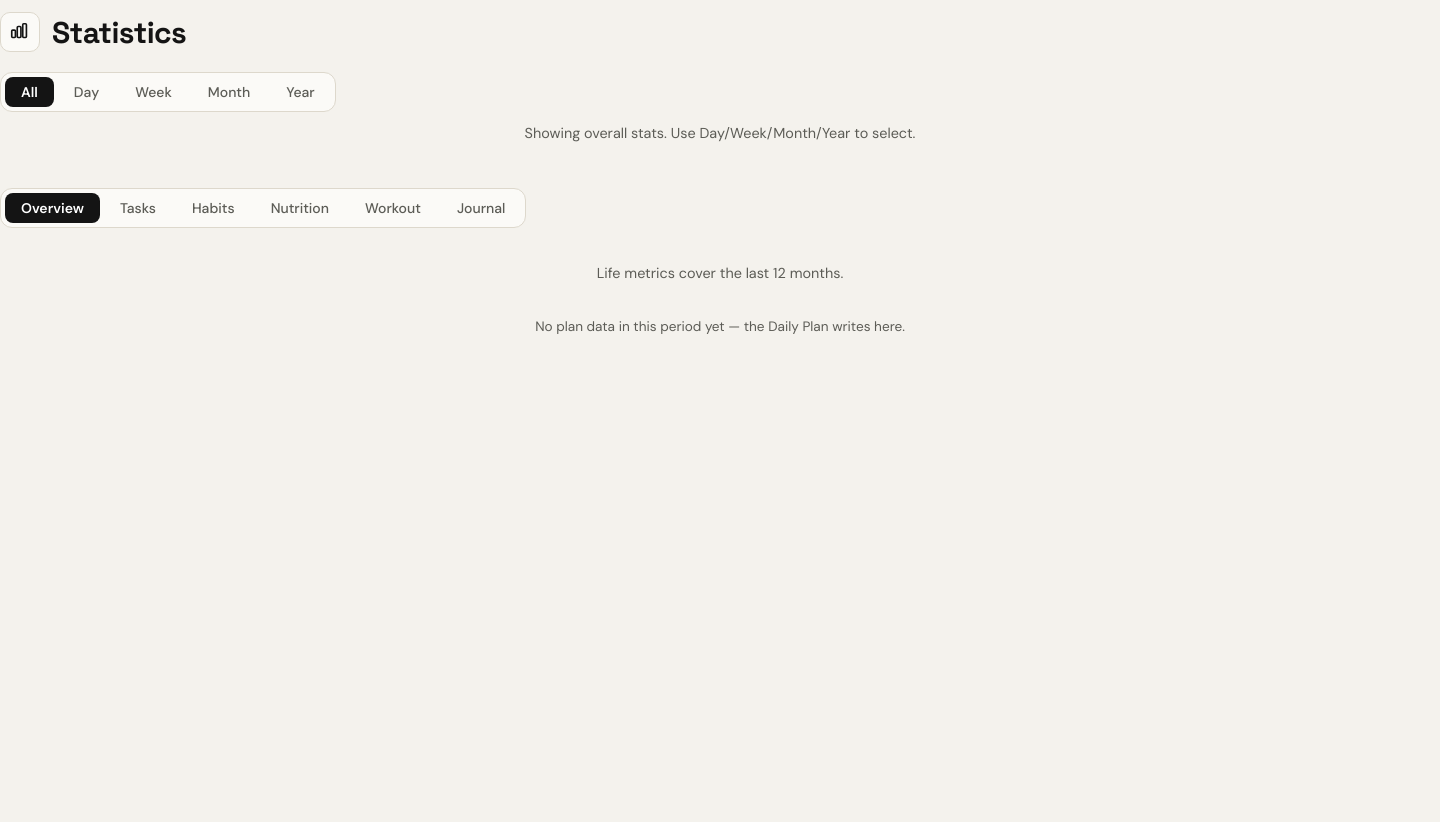
Scenario: StatisticsView (server mode) › renders the donut % and metric cards on the Tasks tab
Note: The task content lives in its own section now.
Click the tab "Tasks" at (138, 208), box [104,193,172,223]
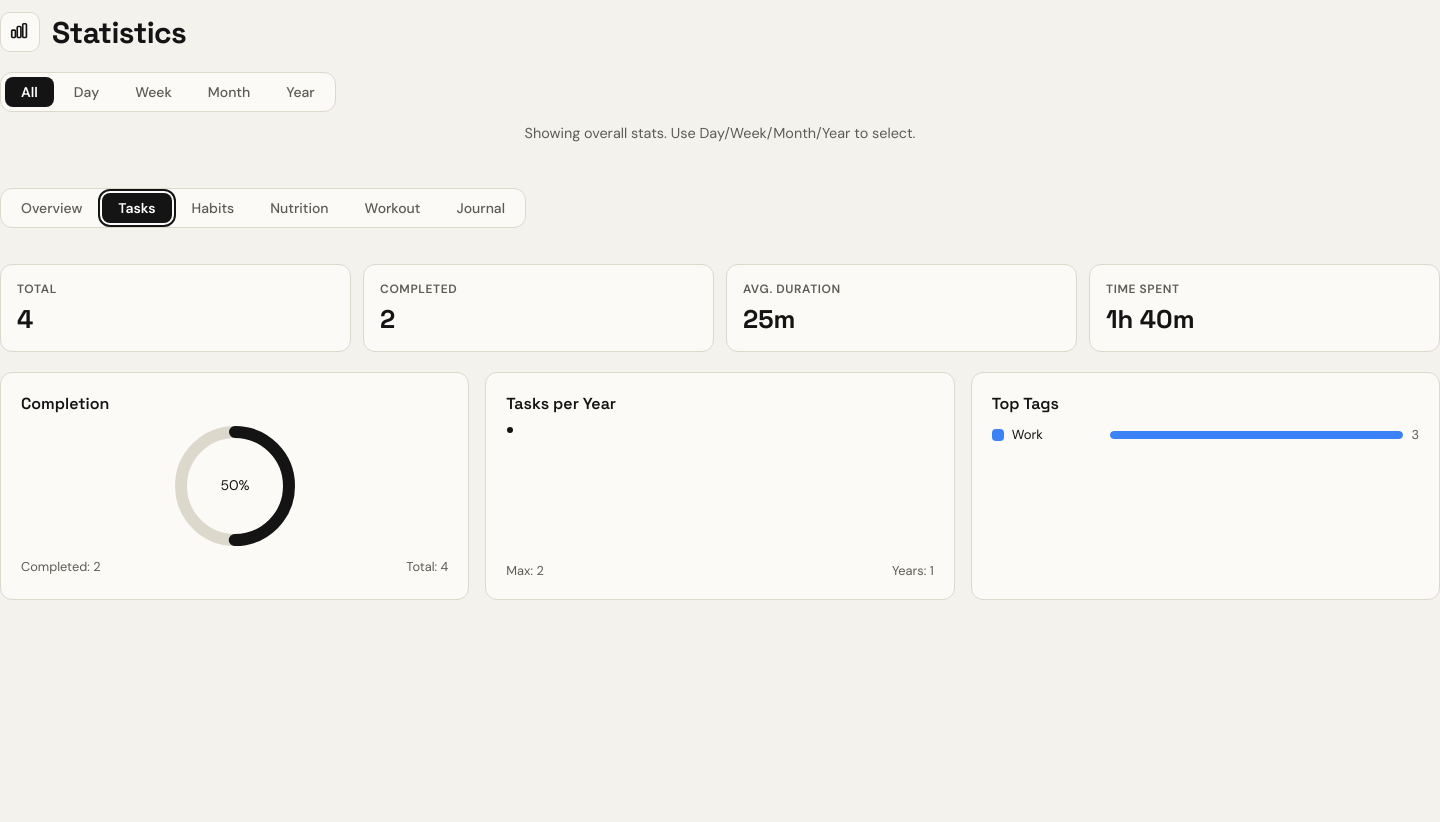
expect the text "25m" is shown: met, box [743,303,795,335]
expect the text "1h 40m" is shown: met, box [1106,303,1195,335]
expect the text "Work" is shown: met, box [1012,426,1043,443]
